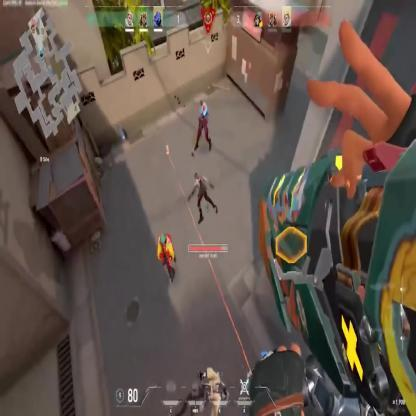enemy: (194, 98, 212, 154), (157, 233, 176, 284)
enemy_head: (160, 233, 166, 244), (202, 103, 207, 111)
